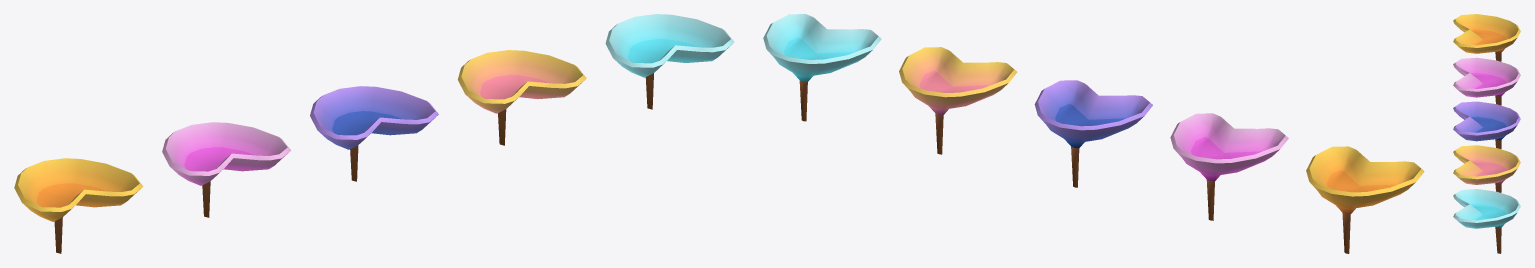
Rendered from CoralReefSet6.fbx.
3 views of the same model, side by side, from view 1: azimuth 30°, elevation 25°; view 2: azimuth 150°, elevation 25°; view 3: azimuth 270°, elevation 25° (orthographic). The views are drawn at different scales.
Visible parts, largest first — view 1: F_CoralReef.001, F_CoralReef.004, F_CoralReef, F_CoralReef.002, F_CoralReef.003; view 2: F_CoralReef.001, F_CoralReef.002, F_CoralReef, F_CoralReef.003, F_CoralReef.004; view 3: F_CoralReef.003, F_CoralReef, F_CoralReef.001, F_CoralReef.004, F_CoralReef.002.
Part boxes in pixels (<box>): F_CoralReef.001: <box>310,86,438,181</box>; F_CoralReef.004: <box>14,158,143,253</box>; F_CoralReef: <box>457,50,586,145</box>; F_CoralReef.002: <box>162,122,290,217</box>; F_CoralReef.003: <box>605,14,734,109</box>; F_CoralReef.001: <box>1034,80,1152,187</box>; F_CoralReef.002: <box>1170,113,1288,220</box>; F_CoralReef: <box>899,47,1017,154</box>; F_CoralReef.003: <box>763,14,881,121</box>; F_CoralReef.004: <box>1306,146,1424,253</box>; F_CoralReef.003: <box>1453,189,1520,253</box>; F_CoralReef: <box>1453,145,1520,192</box>; F_CoralReef.001: <box>1453,101,1520,148</box>; F_CoralReef.004: <box>1453,14,1520,61</box>; F_CoralReef.002: <box>1453,57,1520,105</box>.
Size of the model in its own units: 952 by 105 by 131.
1 material, 1 textured.
